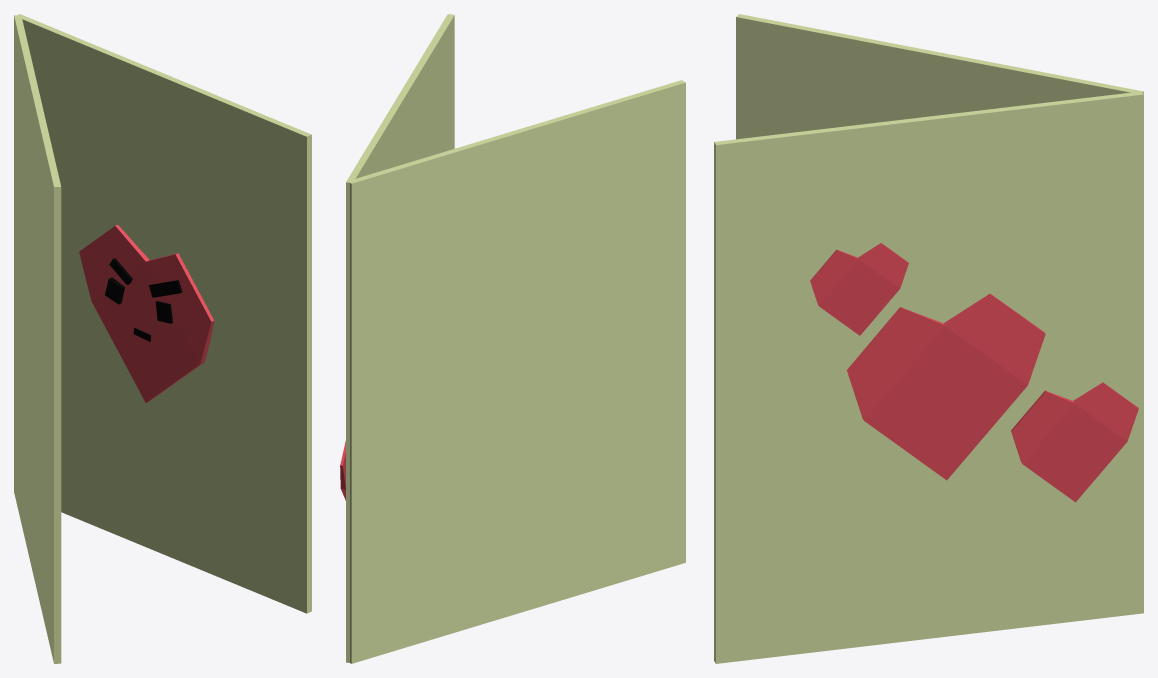
Rendered from ValentinesDayCard.fbx.
3 renders of one model, left to right at view 1: azimuth 30°, elevation 25°; view 2: azimuth 150°, elevation 25°; view 3: azimuth 270°, elevation 25°, orthographic. The views are drawn at different scales.
Visible parts, largest first — view 1: Cube, Cube.001, Cube.003; view 2: Cube.001, Cube; view 3: Cube, Cube.001, Cube.002, Cube.010, Cube.009.
Part boxes in pixels (x1=…): Cube: x1=15, y1=14, x2=311, y2=613; Cube.001: x1=14, y1=15, x2=61, y2=663; Cube.003: x1=79, y1=225, x2=214, y2=402; Cube.001: x1=350, y1=80, x2=685, y2=663; Cube: x1=346, y1=14, x2=454, y2=662; Cube: x1=714, y1=91, x2=1143, y2=663; Cube.001: x1=736, y1=14, x2=1143, y2=139; Cube.002: x1=847, y1=293, x2=1045, y2=480; Cube.010: x1=1011, y1=382, x2=1138, y2=502; Cube.009: x1=810, y1=243, x2=908, y2=335.
Bounding box in the file's own units: 108 × 200 × 150.
